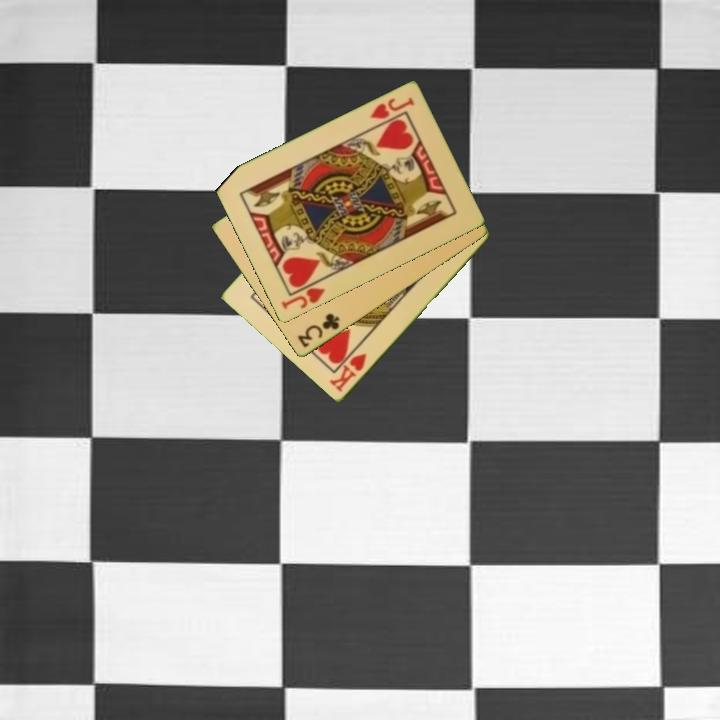3c: (294, 310, 342, 351)
Jh: (278, 284, 328, 313), (367, 94, 417, 122)
Kh: (326, 350, 370, 395)
